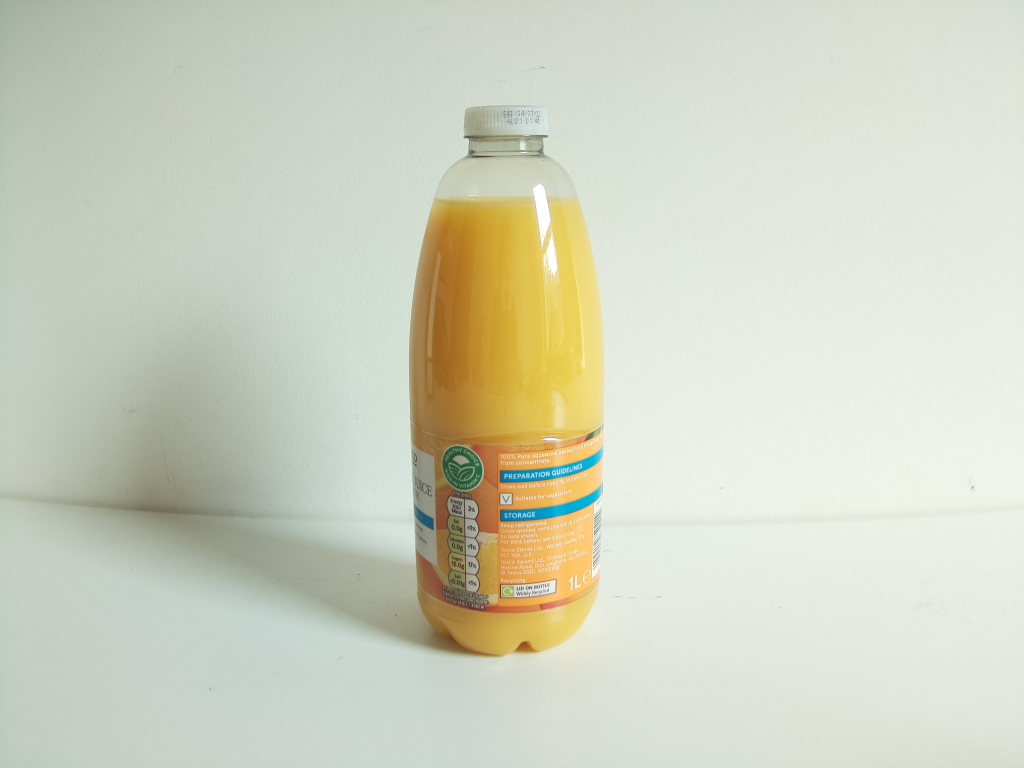juice: (401, 96, 603, 661)
